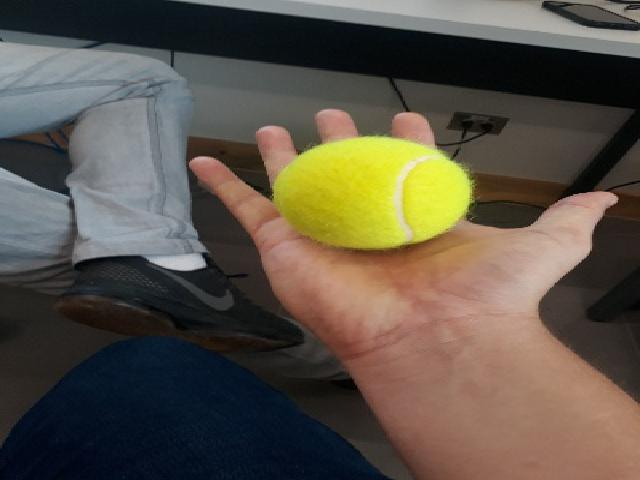Ball: (274, 134, 474, 250)
